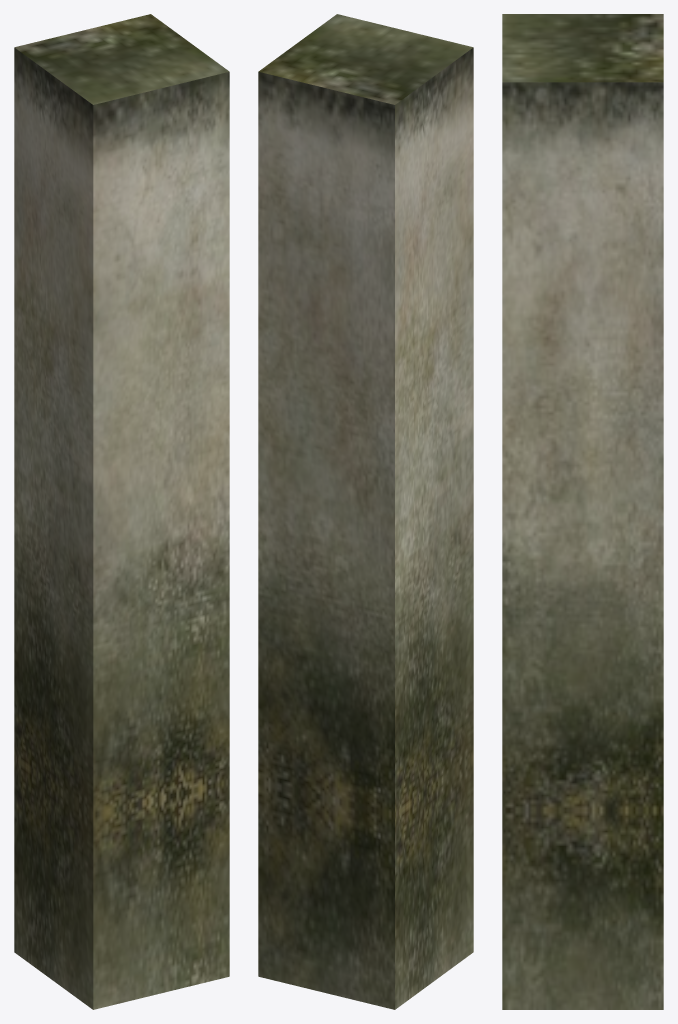
The model's file is TallWallStucco_Column.fbx.
3 views of the same model, side by side, from view 1: azimuth 30°, elevation 25°; view 2: azimuth 150°, elevation 25°; view 3: azimuth 270°, elevation 25° (orthographic). The views are drawn at different scales.
Visible parts, largest first — view 1: lod_high; view 2: lod_high; view 3: lod_high.
Boxes of the visible parts, x1=… form: lod_high: x1=14, y1=14, x2=229, y2=1009; lod_high: x1=258, y1=14, x2=473, y2=1009; lod_high: x1=502, y1=14, x2=663, y2=1009.
Size of the model in its own units: 300 by 1900 by 300.
Materials: 1 (1 with a texture image).
